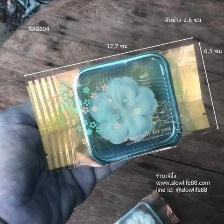snack: (15, 37, 216, 178)
